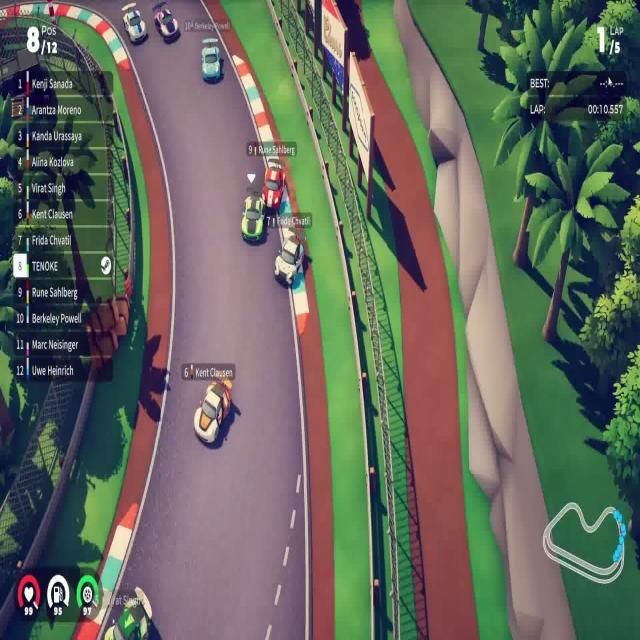car: (193, 377, 233, 444), (273, 232, 305, 286), (240, 191, 266, 243), (261, 162, 286, 213), (200, 37, 223, 83), (153, 4, 179, 43), (122, 6, 147, 44)
